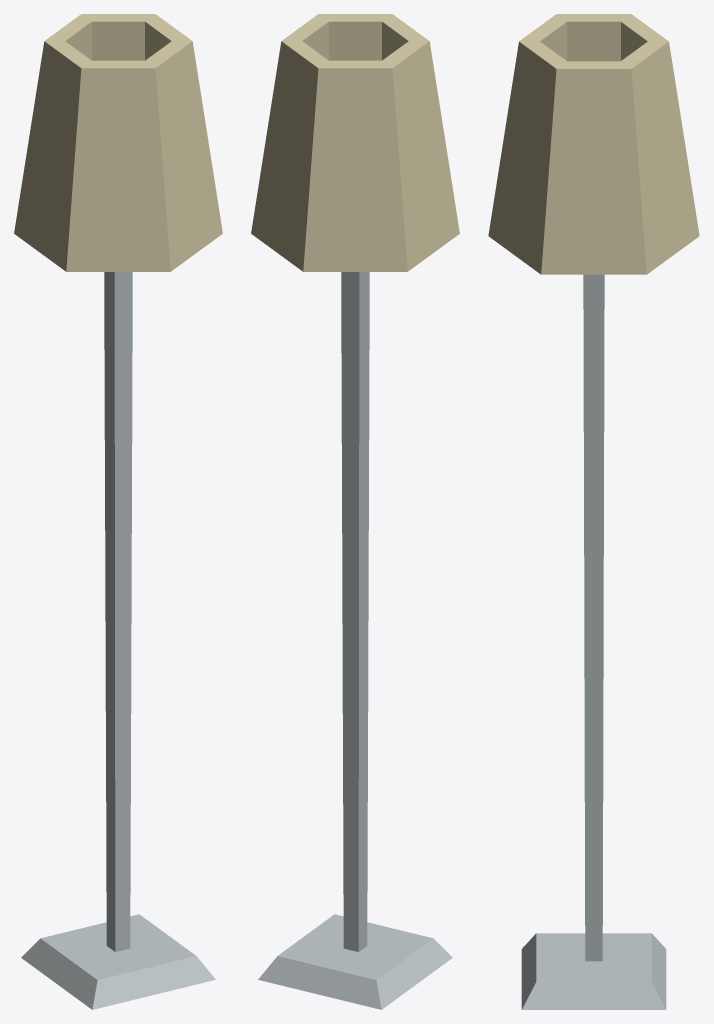
Rendered from lampRoundFloor.glb.
The picture shows the model from 3 angles, left to right: view 1: azimuth 30°, elevation 25°; view 2: azimuth 150°, elevation 25°; view 3: azimuth 270°, elevation 25°; orthographic projection.
Visible parts, largest first — view 1: lampRoundFloor; view 2: lampRoundFloor; view 3: lampRoundFloor.
Part boxes in pixels (box(x1,y1,x2,y2)): lampRoundFloor: box(14, 14, 222, 1009); lampRoundFloor: box(251, 14, 459, 1009); lampRoundFloor: box(488, 14, 699, 1009).
Size of the model in its own units: 0.152 by 0.86 by 0.1756.
